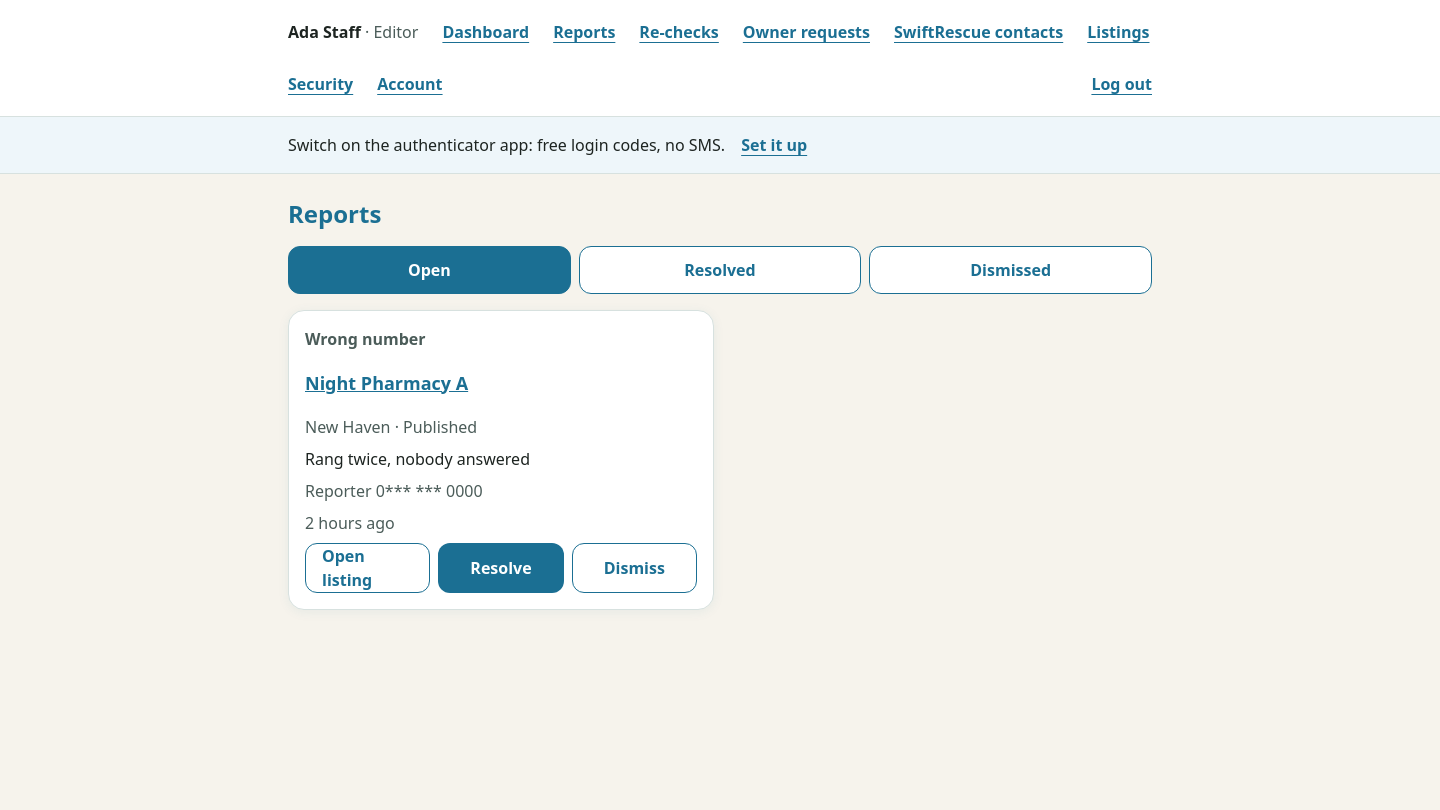
resolving and dismissing › Resolve sends a PATCH with the token, removes the card and says what happened
Click the button "Resolve" at coordinates (501, 568), box x1=438 y1=543 x2=564 y2=593
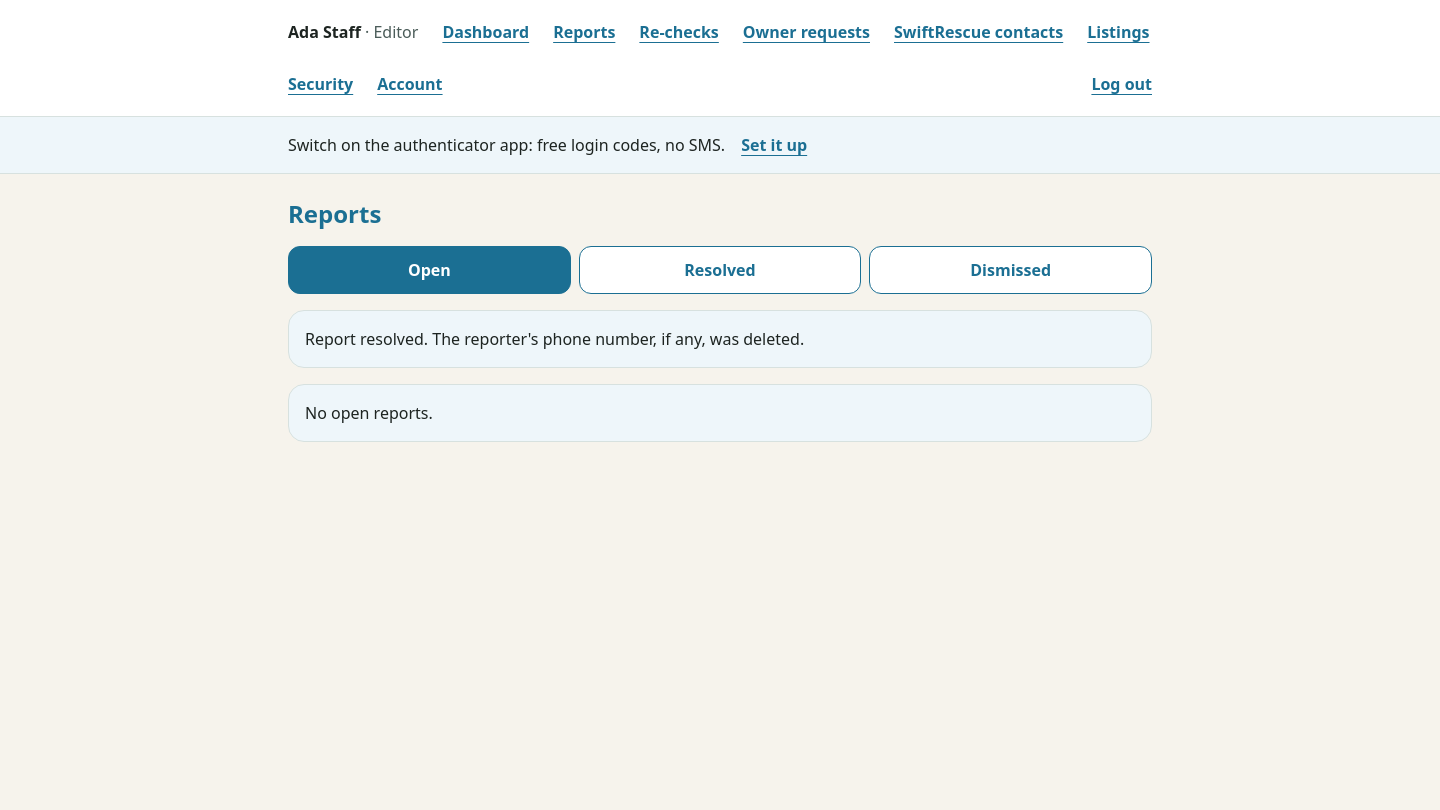
Expected: the message reads "Report resolved. The reporter's phone number, if any, was deleted.", x1=305 y1=328 x2=804 y2=350
Expected: the text "No open reports." is shown, x1=288 y1=384 x2=1152 y2=442
